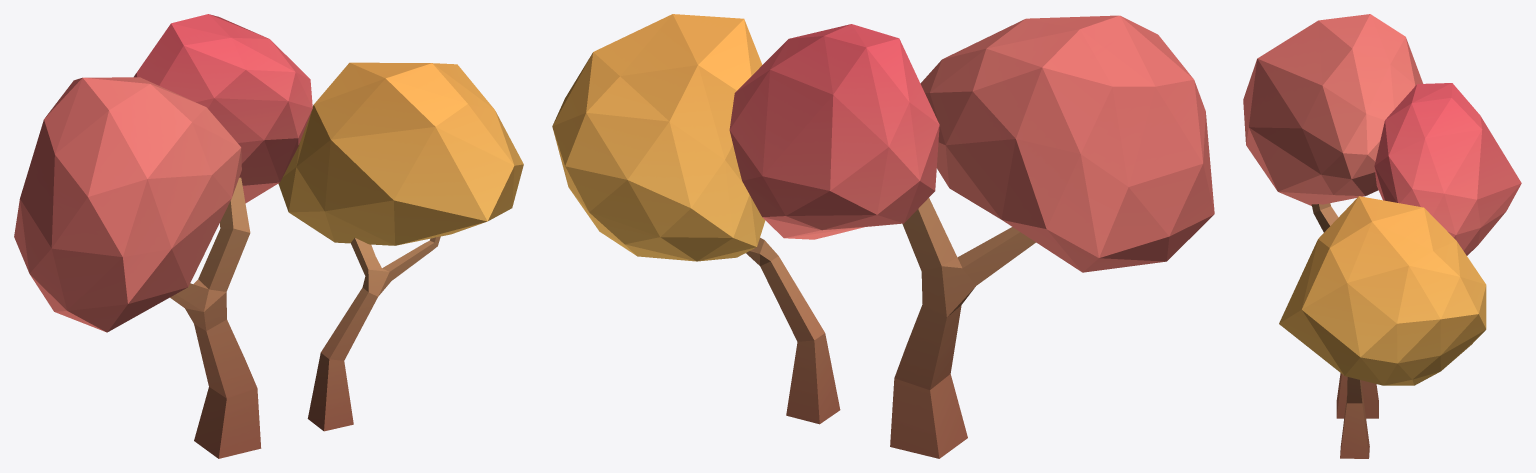
The model's file is PR_Tree_02.fbx.
3 renders of one model, left to right at view 1: azimuth 30°, elevation 25°; view 2: azimuth 150°, elevation 25°; view 3: azimuth 270°, elevation 25°, orthographic. The views are drawn at different scales.
Parts seen in each view (by area): view 1: PR_Tree_02; view 2: PR_Tree_02; view 3: PR_Tree_02.
Boxes of the visible parts, x1=… form: PR_Tree_02: x1=14, y1=14, x2=523, y2=458; PR_Tree_02: x1=552, y1=14, x2=1214, y2=458; PR_Tree_02: x1=1243, y1=14, x2=1521, y2=458.
Size of the model in its own units: 1146 by 860 by 641.
Materials: 1 (1 with a texture image).
